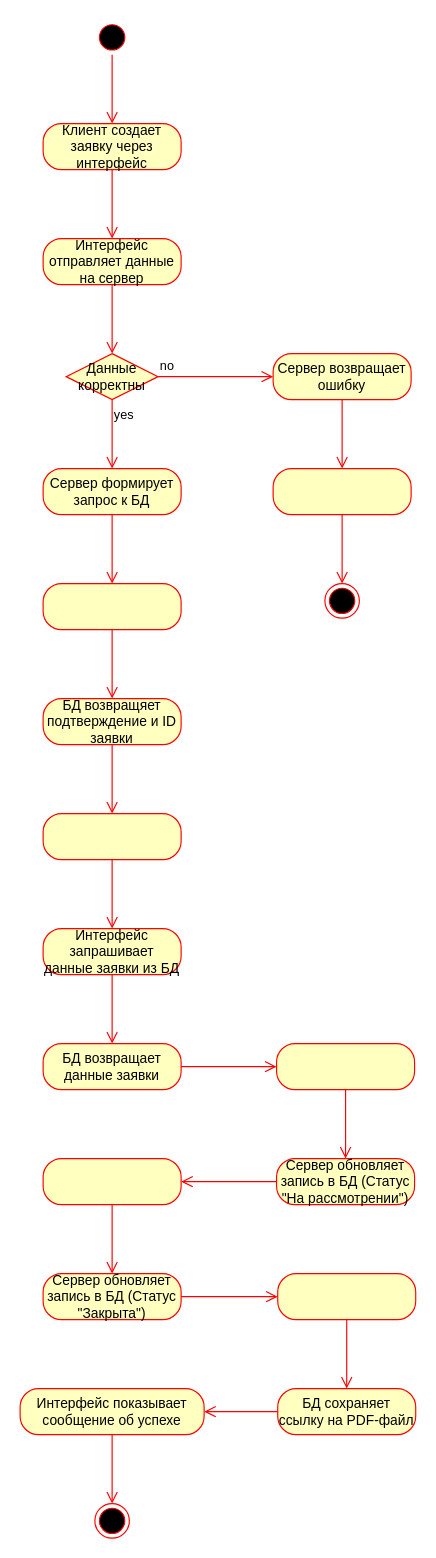
The diagram is 436 pixels wide and 1558 high, and some of its shapes have lost their labels. Each missing label, with the box of its shape:
Администратор назначает время приема: (42, 1157, 181, 1205)
Администратор назначает исполнителя: (275, 1042, 415, 1090)
Администратор просматривает список новых заявок: (42, 812, 181, 860)
БД сохраняет заявку (статус "Новая"): (42, 582, 181, 630)
Интерфейс показывает ошибку клиенту: (272, 467, 411, 515)
Сервер инициирует генерацию PDF-договора: (277, 1272, 416, 1320)
